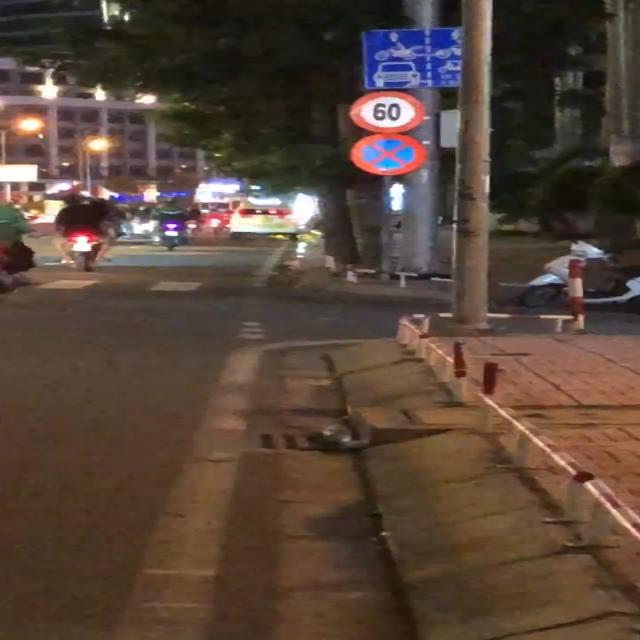Bien bao cam dung xe va do xe: (350, 131, 431, 178)
Bien bao toc do toi da cho phep: (348, 90, 429, 132)
